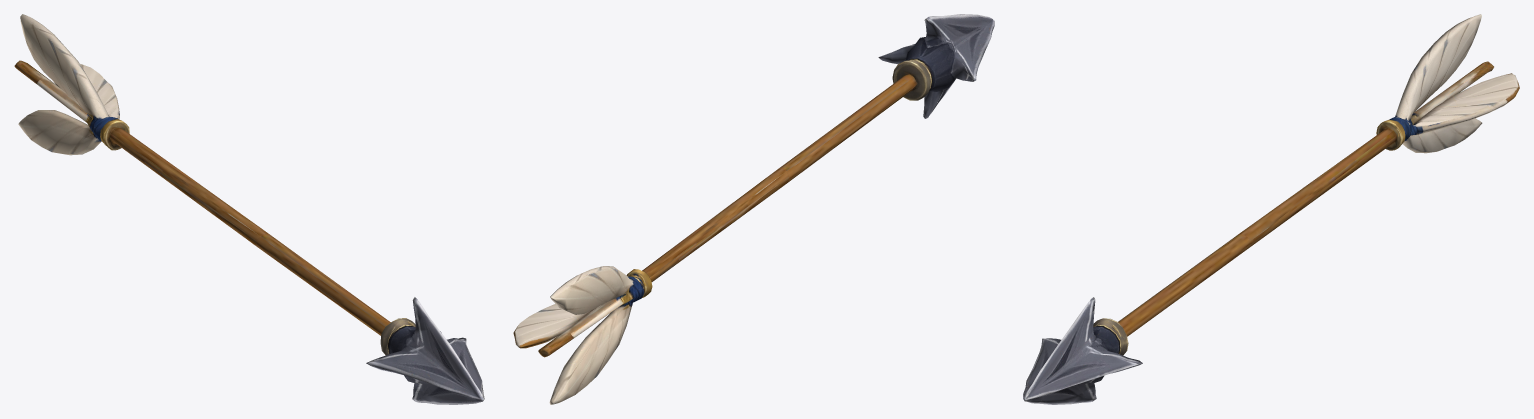
Rendered from flecha.glb.
3 renders of one model, left to right at view 1: azimuth 30°, elevation 25°; view 2: azimuth 150°, elevation 25°; view 3: azimuth 330°, elevation 25°, orthographic. The views are drawn at different scales.
Visible parts, largest first — view 1: 0; view 2: 0; view 3: 0.
Boxes of the visible parts, x1=… form: 0: x1=14, y1=14, x2=484, y2=404; 0: x1=513, y1=14, x2=994, y2=404; 0: x1=1023, y1=14, x2=1519, y2=404.
Size of the model in its own units: 0.1008 by 0.1121 by 0.8.
1 material, 1 textured.
